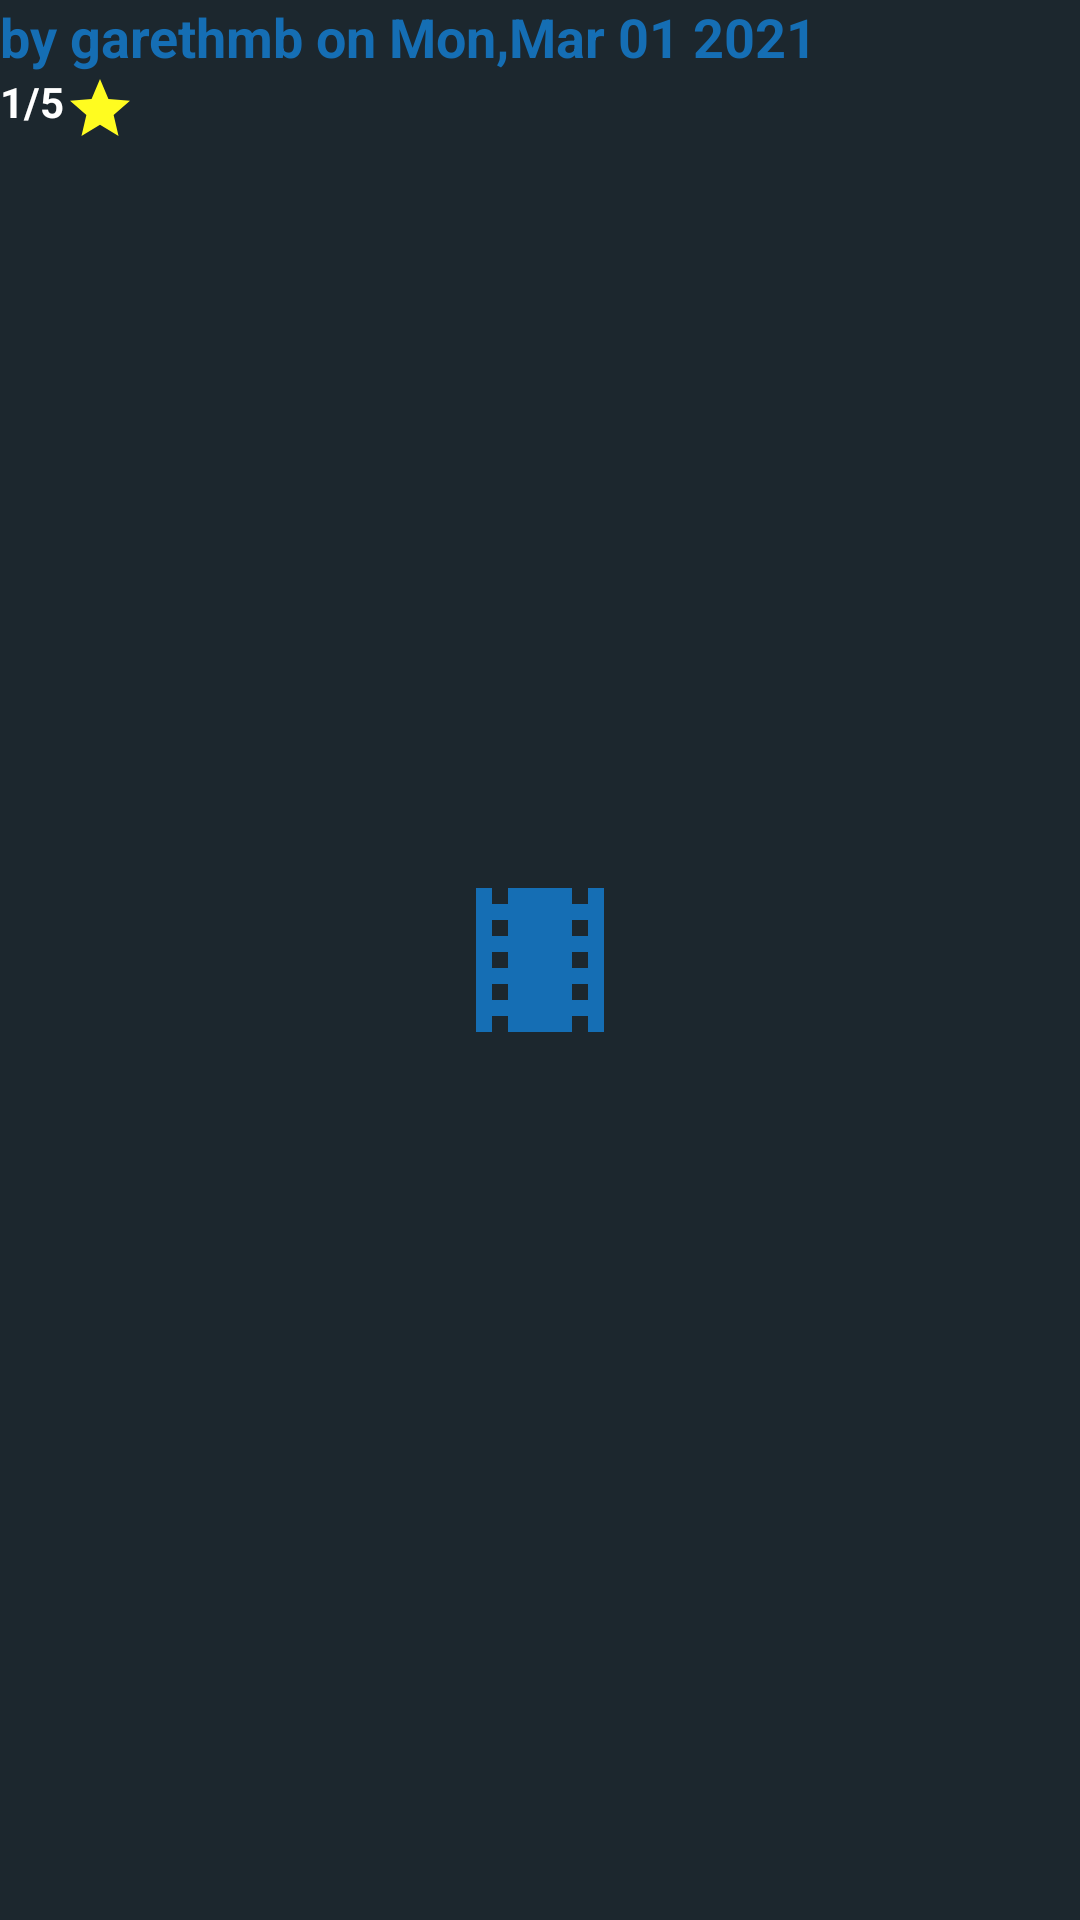

Icon bounding boxes for this 1080 × 1920 phone screenshot, format box(x1, y1, x2, y2):
star: box(70, 79, 130, 136)
